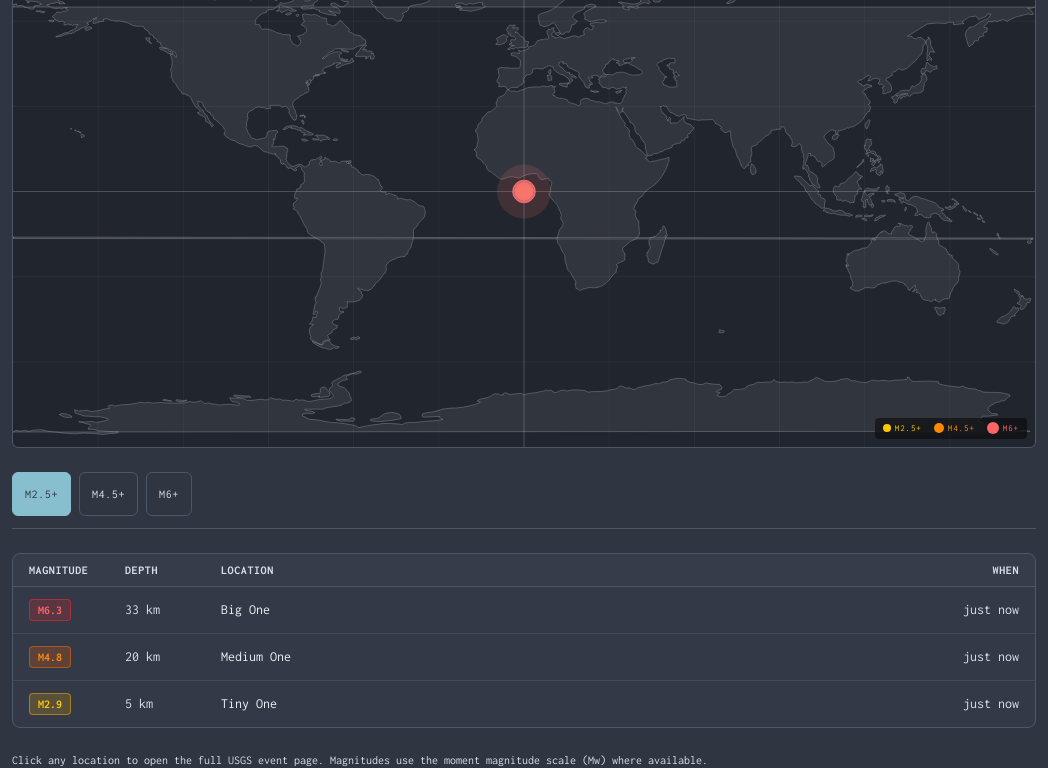
Scenario: EarthSciencesClient › filters the visible list when a higher magnitude tab is selected
(page scrolled)
Expected: the link "Big One" is shown, [221,602,270,617]
Expected: the link "Medium One" is shown, [221,649,291,664]
Click the radio button labelled "M6+".
click(169, 494)  # box [146,472,192,516]
(page scrolled)
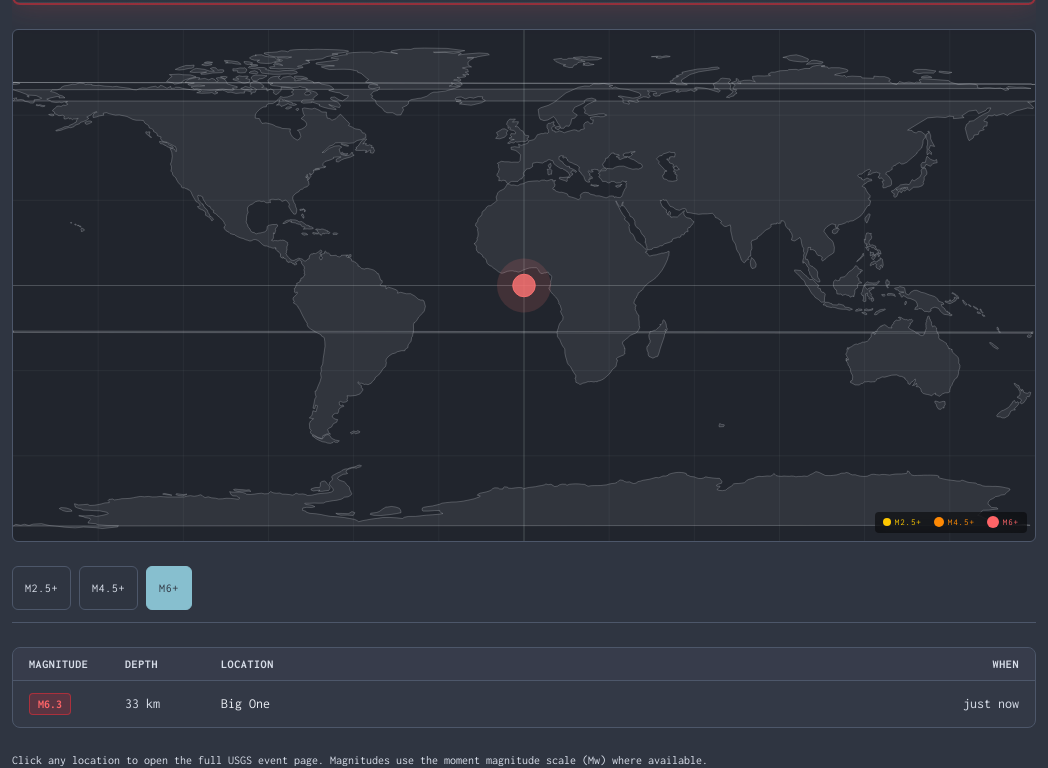
Expected: the link "Big One" is shown, [221,696,270,711]
Expected: the link "Medium One" is gone
Expected: the link "Tiny One" is gone
